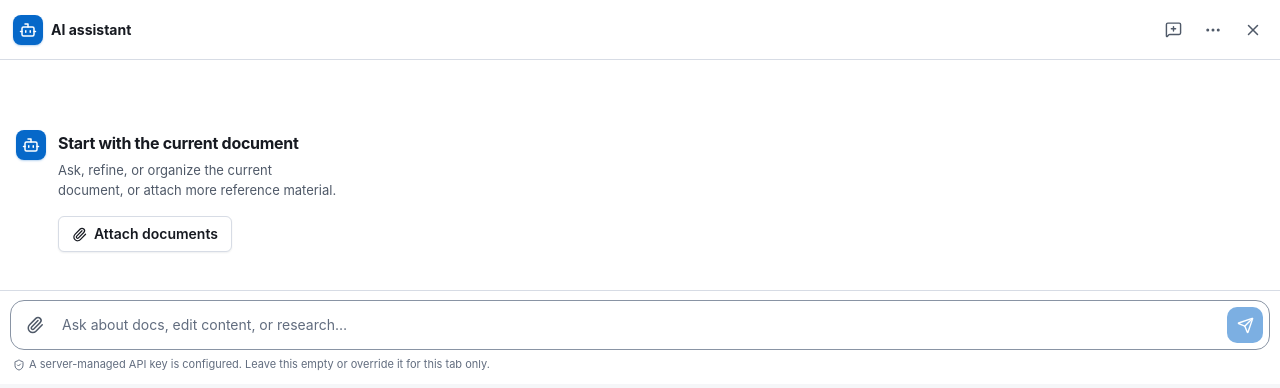
Test case: ChatPanel › uses a server-managed API key without requiring a browser key
Expected: the text "server-managed API key" is shown, x1=29 y1=357 x2=490 y2=371
In the text box with placeholder "Ask about docs, edit content, or research…": point(640, 325) x1=58 y1=307 x2=1222 y2=343, type "Say hello"
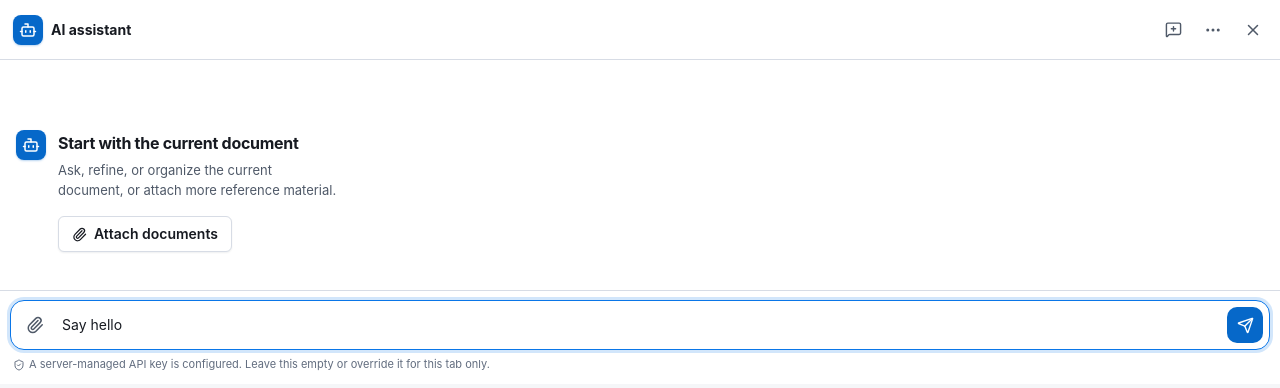
Now the button named "Send" is enabled
Click the button named "Send": point(1245, 325) x1=1227 y1=307 x2=1263 y2=343
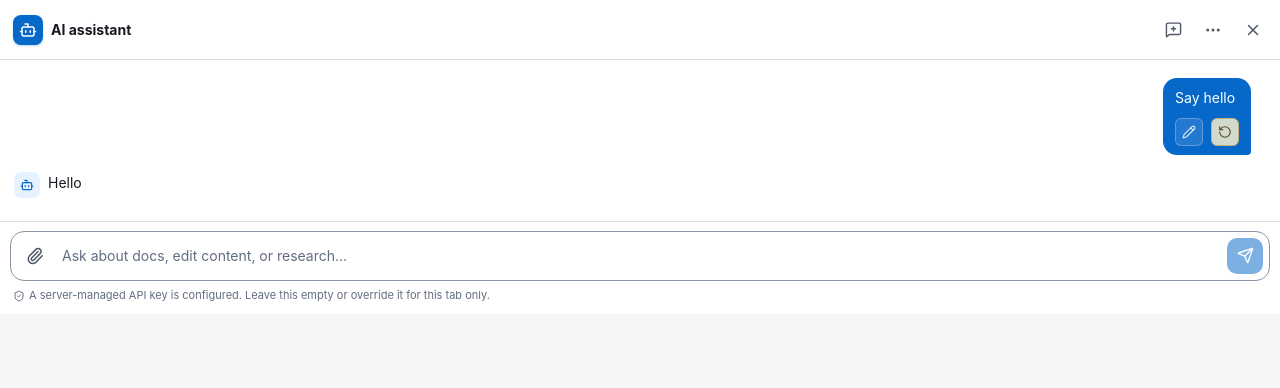
Now the text "Hello" is shown, box x1=48 y1=172 x2=82 y2=194
